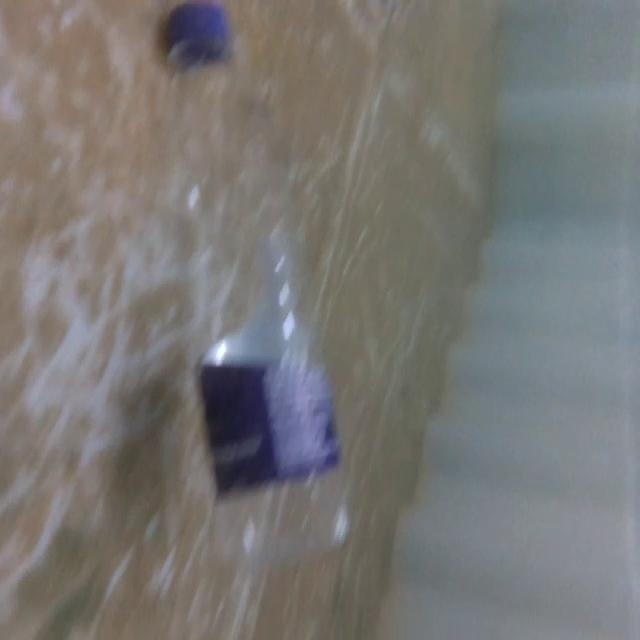plastic bottle: (147, 0, 360, 557)
